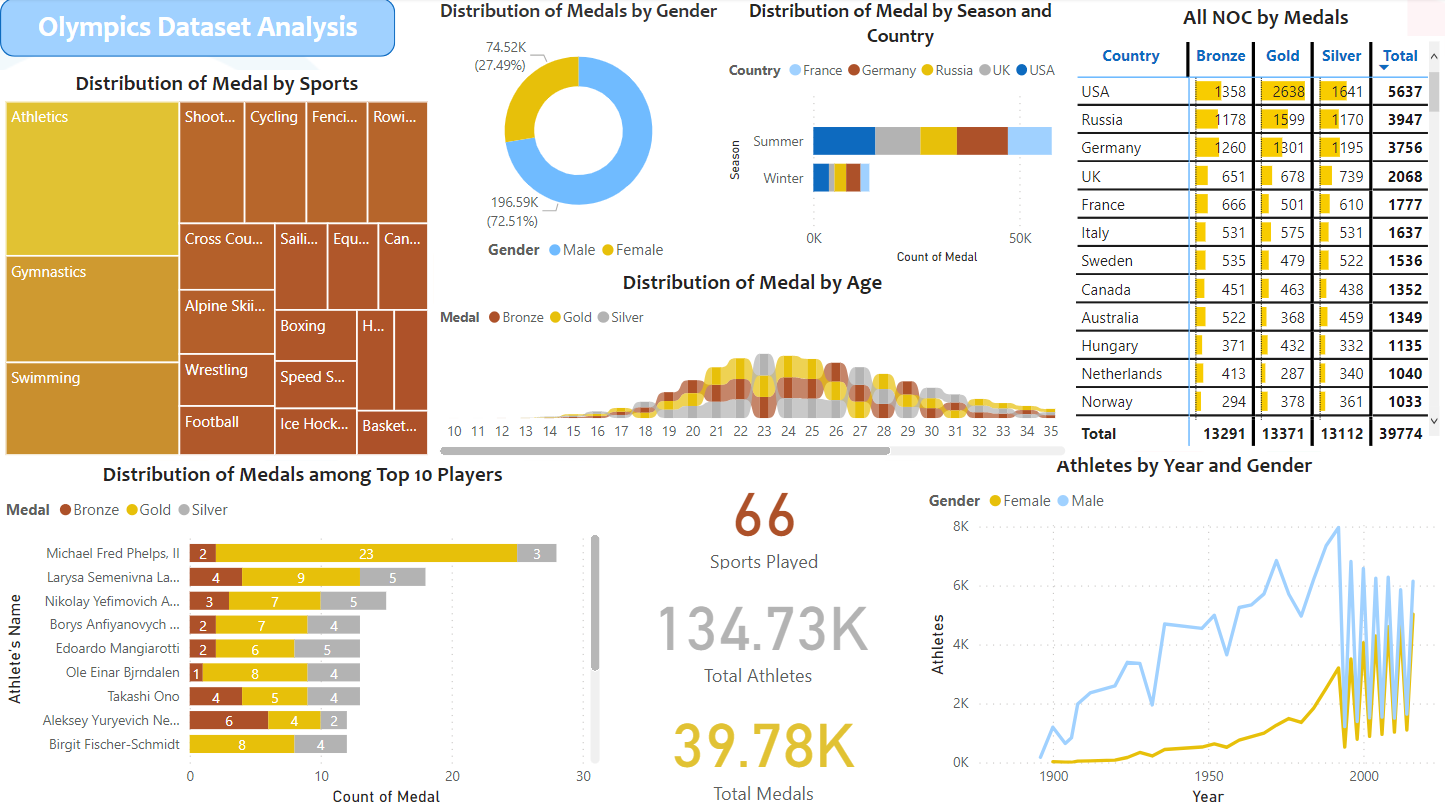

The page's visual inventory and layout, read from the dashboard file:
{"tool":"powerbi","page":{"name":"Page 4","canvas":[1280,720],"ordinal":0},"visuals":[{"type":"shape","box":[0,0,350,52],"z":0},{"type":"pivotTable","fields":{"Rows":["Olympics Final.Country"],"Columns":["Olympics Final.Medal"],"Values":["CountNonNull(Olympics Final.Medal)"]},"box":[948,34,332,385],"z":1000},{"type":"textbox","box":[995,0,251.4,34.3],"z":2000},{"type":"lineChart","fields":{"Category":["Olympics Final.Year"],"Series":["Olympics Final.Gender"],"Y":["Count(Olympics Final.Name)"]},"box":[817,419,463,301],"z":3000},{"type":"donutChart","title":"Distribution of Medals by Gender","fields":{"Category":["Olympics Final.Gender"],"Y":["CountNonNull(Olympics Final.Medal)"]},"box":[384,0,256,242],"z":4000},{"type":"card","fields":{"Values":["Count(Olympics Final.Name)"]},"box":[530,506,293,108],"z":5000},{"type":"ribbonChart","title":"Distribution of Medal by Age","fields":{"Category":["Olympics Final.Age"],"Y":["CountNonNull(Olympics Final.Medal)"],"Series":["Olympics Final.Medal"]},"box":[384,240,564,179],"z":6000},{"type":"treemap","title":"Distribution of Medal by Sports","fields":{"Group":["Olympics Final.Sport"],"Values":["CountNonNull(Olympics Final.Medal)"]},"box":[0,64,384,355],"z":7000},{"type":"card","title":"Total Medals","fields":{"Values":["CountNonNull(Olympics Final.Medal)"]},"box":[530,614,293,106],"z":8000},{"type":"barChart","title":"Distribution of Medals among Top 10 Players","fields":{"Category":["Olympics Final.Name"],"Y":["CountNonNull(Olympics Final.Medal)"],"Series":["Olympics Final.Medal"]},"box":[0,419,536,301],"z":9000},{"type":"barChart","title":"Distribution of Medal by Season and Country","fields":{"Category":["Olympics Final.Season"],"Series":["Olympics Final.Country"],"Y":["CountNonNull(Olympics Final.Medal)"]},"box":[640,0,314,240],"z":10000},{"type":"card","title":"Total Medals","fields":{"Values":["Count(Olympics Final.Sport)"]},"box":[530,419,287,87],"z":10001}]}

Visuals, with their boxes in screenshot pixels (x1, y1, x2, y2), scaled from the page's 1280x720 canvas onto the 1445x811 screenshot:
shape: l=0, t=0, r=395, b=59
pivotTable - Olympics Final.Country x Olympics Final.Medal: l=1070, t=38, r=1444, b=472
textbox: l=1123, t=0, r=1407, b=39
lineChart - Olympics Final.Year x Olympics Final.Gender: l=922, t=472, r=1444, b=810
"Distribution of Medals by Gender" donutChart: l=434, t=0, r=722, b=273
card - Count(Olympics Final.Name): l=598, t=570, r=929, b=692
"Distribution of Medal by Age" ribbonChart: l=434, t=270, r=1070, b=472
"Distribution of Medal by Sports" treemap: l=0, t=72, r=434, b=472
"Total Medals" card: l=598, t=692, r=929, b=810
"Distribution of Medals among Top 10 Players" barChart: l=0, t=472, r=605, b=810
"Distribution of Medal by Season and Country" barChart: l=722, t=0, r=1077, b=270
"Total Medals" card: l=598, t=472, r=922, b=570
